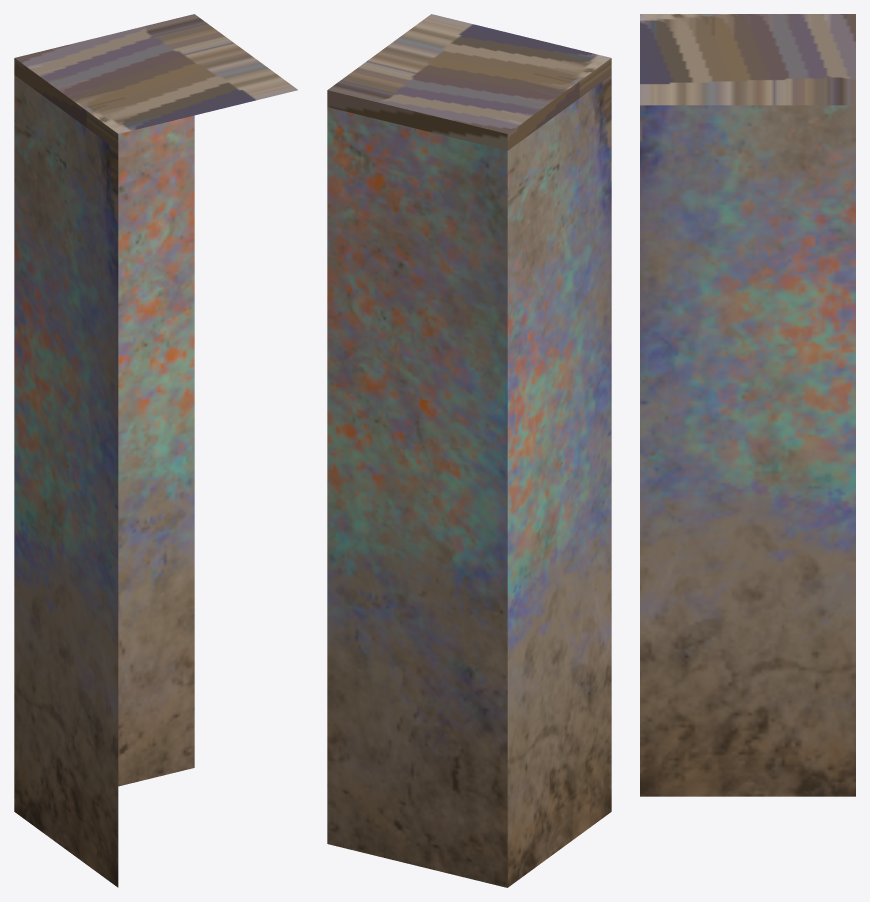
Rendered from SbS_LDK_Corner.fbx.
3 views of the same model, side by side, from view 1: azimuth 30°, elevation 25°; view 2: azimuth 150°, elevation 25°; view 3: azimuth 270°, elevation 25° (orthographic). The views are drawn at different scales.
Visible parts, largest first — view 1: LDK_Corner; view 2: LDK_Corner; view 3: LDK_Corner.
Part boxes in pixels (x1,y1,x2,y2): LDK_Corner: [14, 14, 297, 887]; LDK_Corner: [327, 14, 611, 887]; LDK_Corner: [640, 14, 855, 796].
Bounding box in the file's own units: 250 × 1000 × 250.
